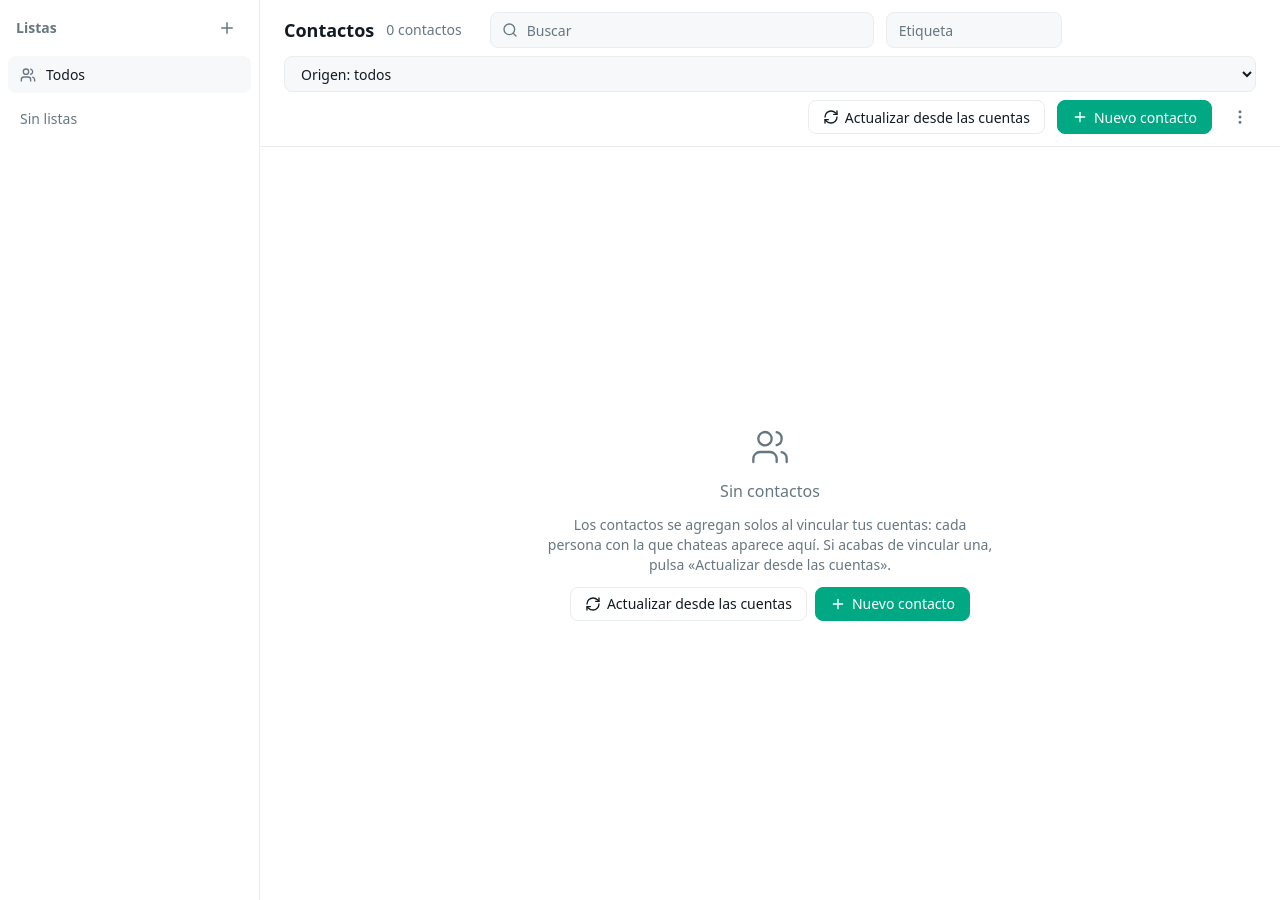
Test: ContactsPage › el menú ⋮ ofrece importar de una cuenta, importar CSV y sugerencias de unión
Check: the text "Sin contactos" is shown, box [720, 478, 820, 502]
What coordinates should you click on to do the following:
click the button named "Más opciones"
I would click on:
 (1240, 117)
Its box is [1224, 101, 1256, 133].
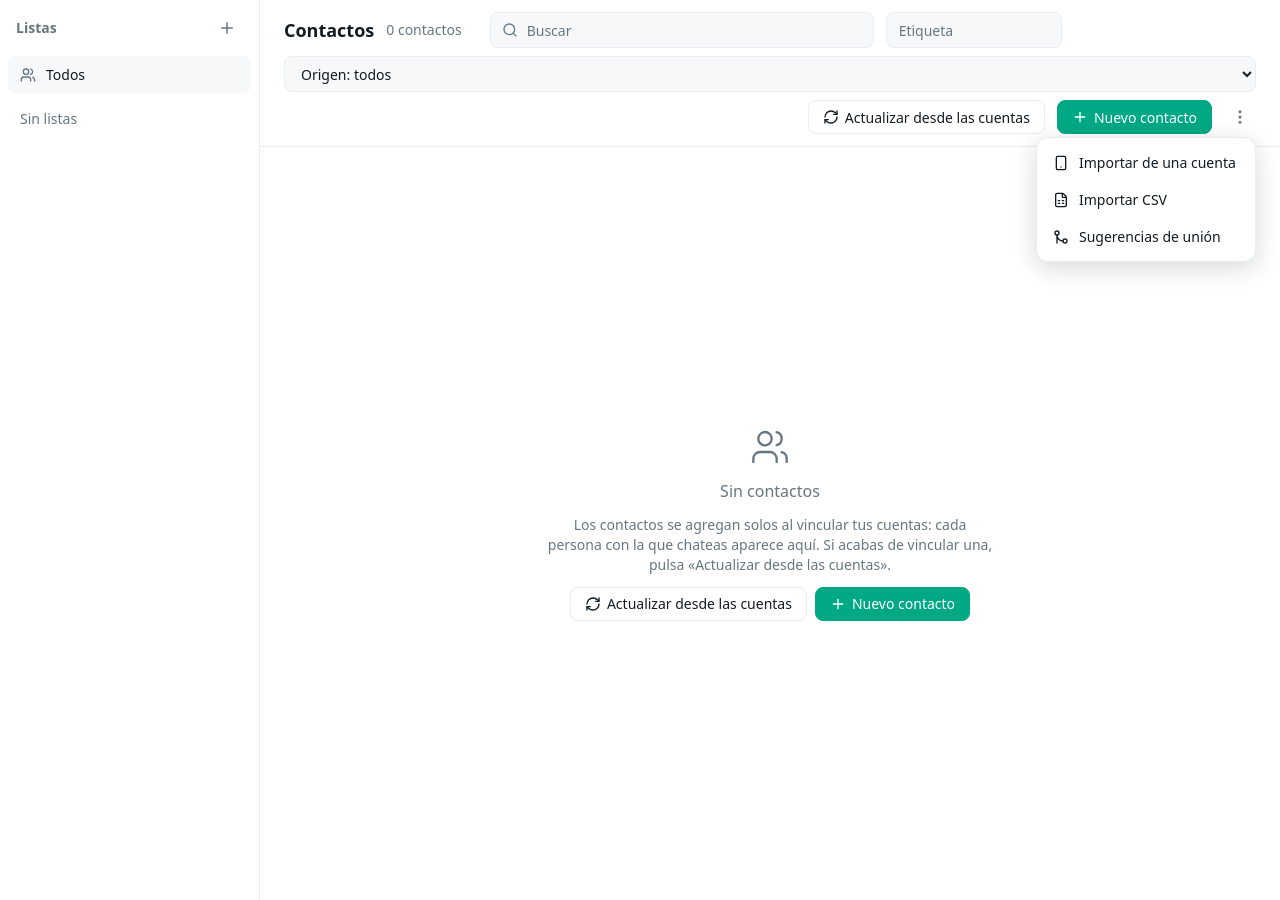
Check: the menu item "Importar de una cuenta" is shown, box [1037, 144, 1255, 181]
Check: the menu item "Importar CSV" is shown, box [1037, 181, 1255, 218]
Check: the menu item "Sugerencias de unión" is shown
What coordinates should you click on to do the following:
click the menu item "Sugerencias de unión"
I would click on:
 (1146, 236)
Its box is [1037, 218, 1255, 255].
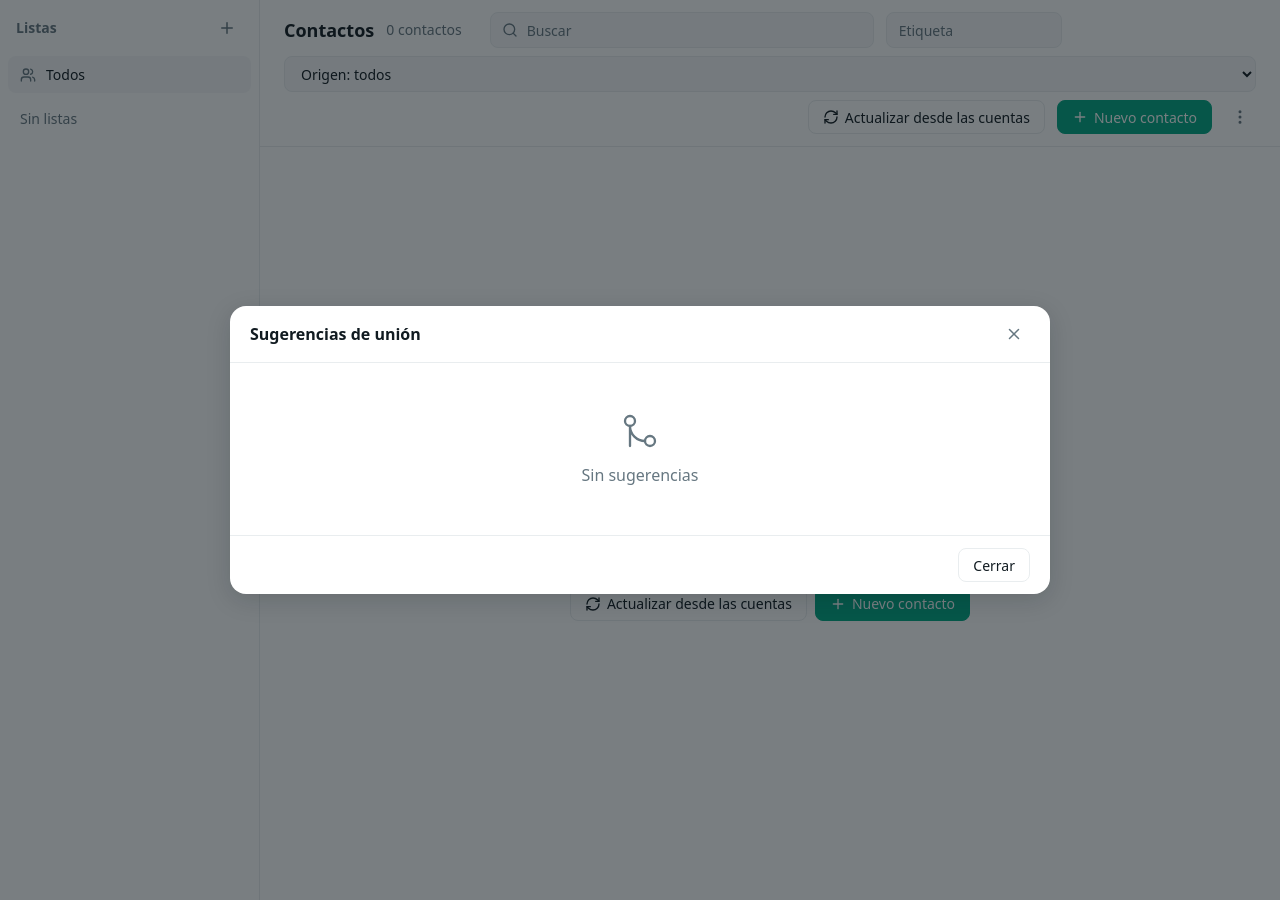
Check: the text "Sin sugerencias" is shown, box [582, 463, 698, 487]
